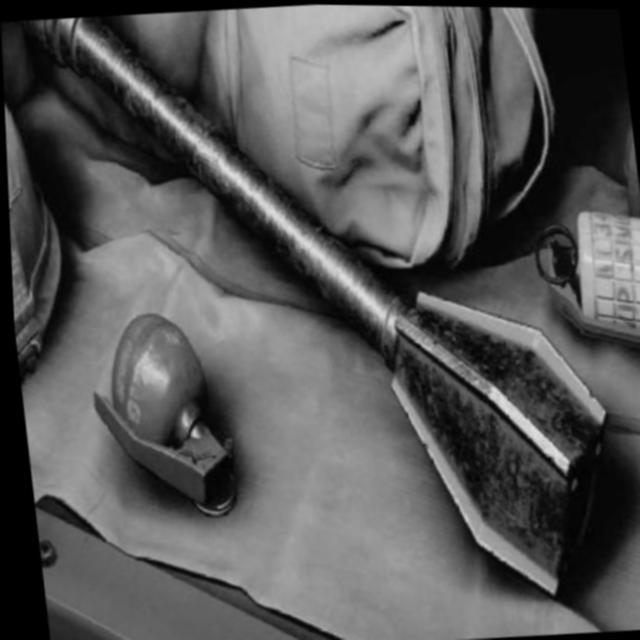weapon: (0, 0, 623, 631)
